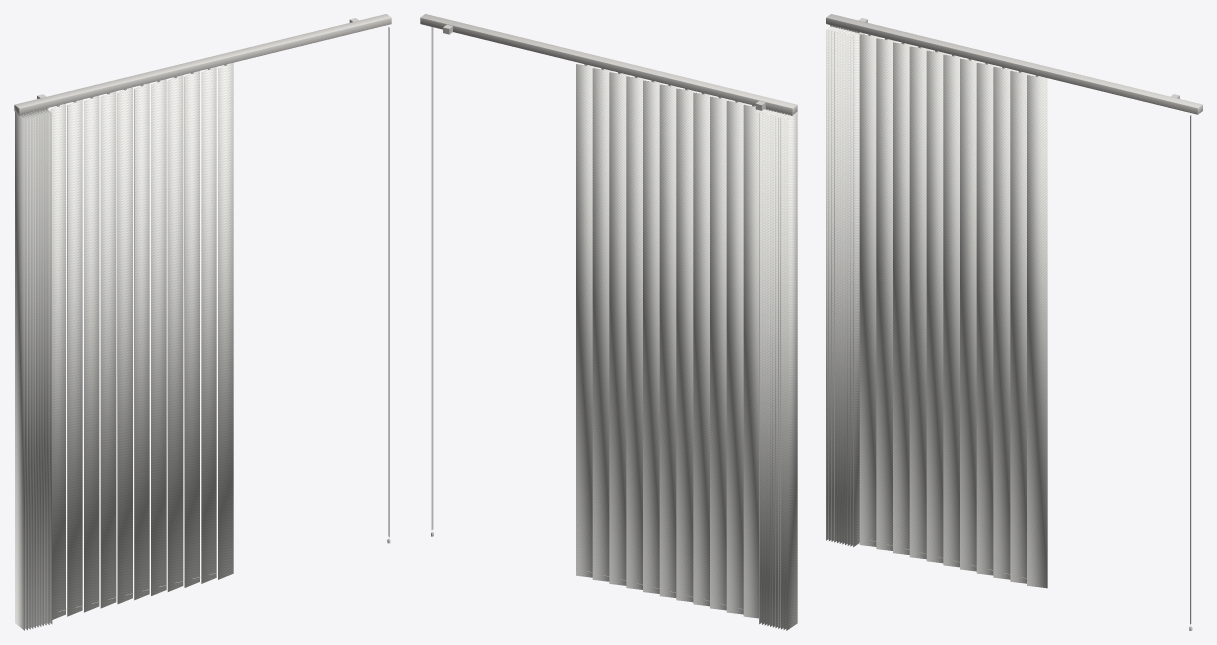
The model's file is cortina_vertical_180_c50.glb.
The picture shows the model from 3 angles, left to right: view 1: azimuth 30°, elevation 25°; view 2: azimuth 150°, elevation 25°; view 3: azimuth 330°, elevation 25°; orthographic projection.
Parts seen in each view (by area): view 1: cortina_vertical_180_c50; view 2: cortina_vertical_180_c50; view 3: cortina_vertical_180_c50.
Part boxes in pixels (x1,y1,x2,y2): cortina_vertical_180_c50: (14,14,391,630); cortina_vertical_180_c50: (420,14,797,630); cortina_vertical_180_c50: (826,14,1202,630).
Bounding box in the file's own units: 1.79 × 2.4 × 0.0996.
3 materials, 1 textured.
